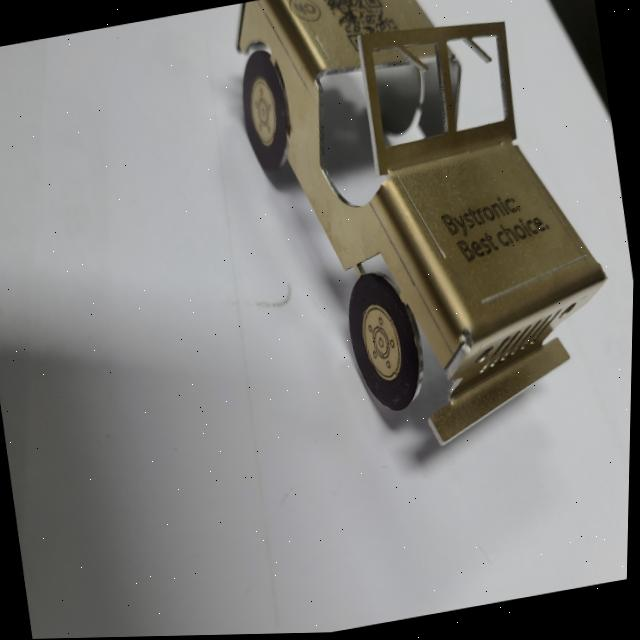tire: (341, 268, 433, 417), (237, 49, 299, 173)
